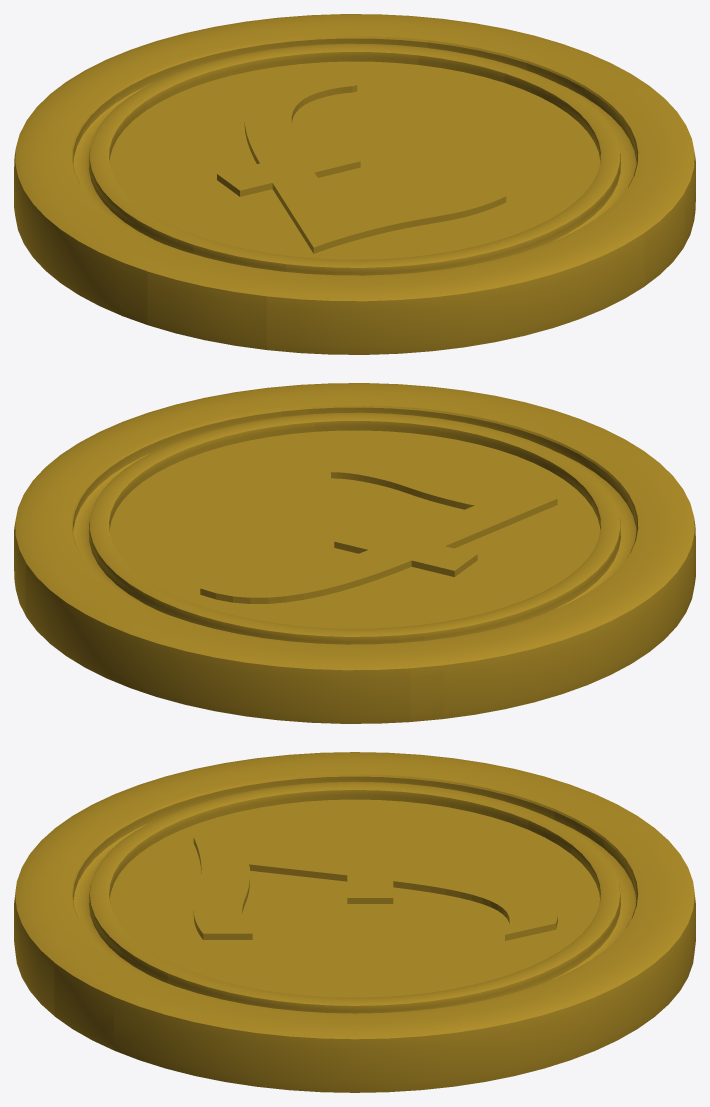
The model's file is euro.glb.
3 renders of one model, top to bottom at view 1: azimuth 30°, elevation 25°; view 2: azimuth 150°, elevation 25°; view 3: azimuth 270°, elevation 25°, orthographic.
Parts seen in each view (by area): view 1: Coin_Coin_0.010; view 2: Coin_Coin_0.010; view 3: Coin_Coin_0.010.
Part boxes in pixels (x1,y1,x2,y2): Coin_Coin_0.010: (14,14,695,354); Coin_Coin_0.010: (14,383,695,723); Coin_Coin_0.010: (14,752,695,1092).
Bounding box in the file's own units: 0.8681 × 0.0952 × 0.8681.
